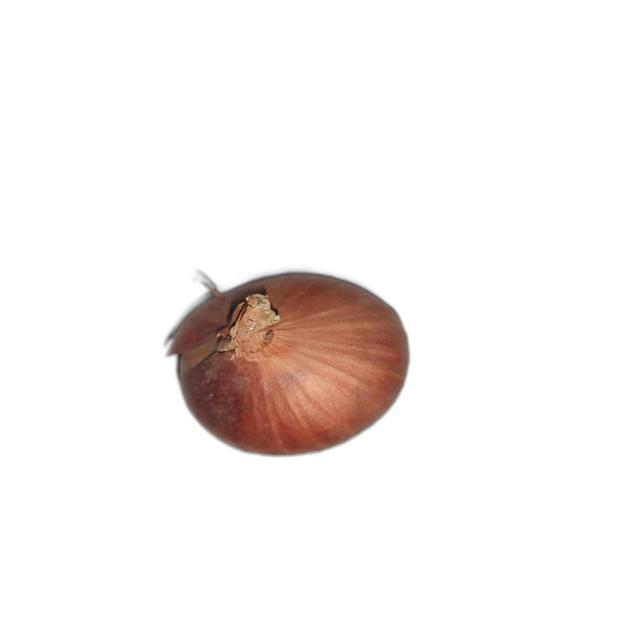onion: (165, 269, 410, 457)
